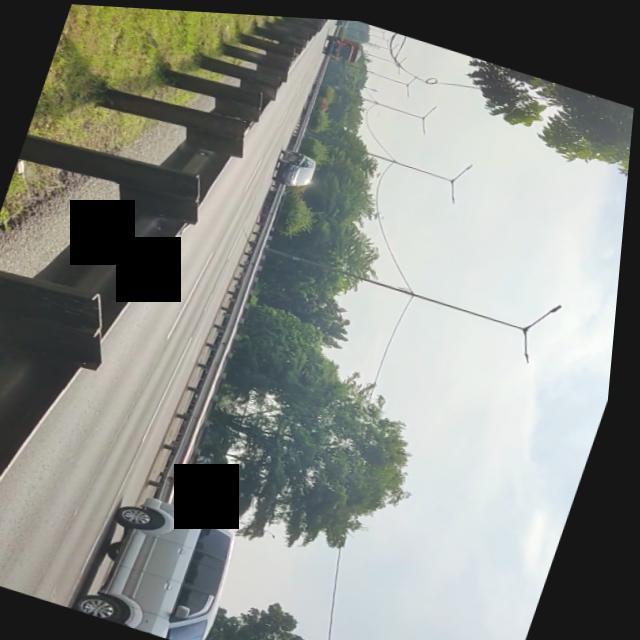Golongan I: (76, 476, 266, 640)
